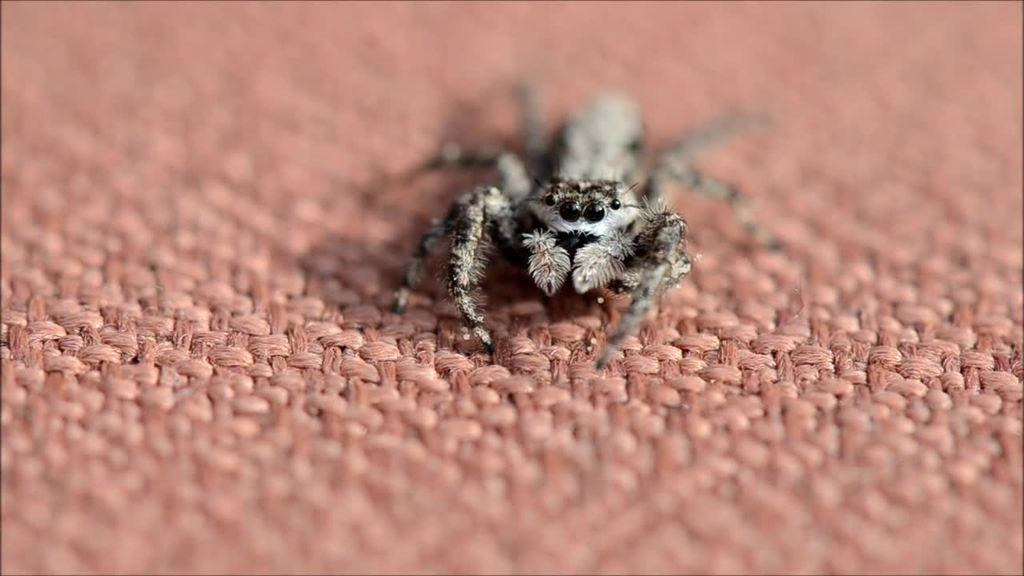insect: (393, 76, 777, 366), (391, 82, 789, 354)
